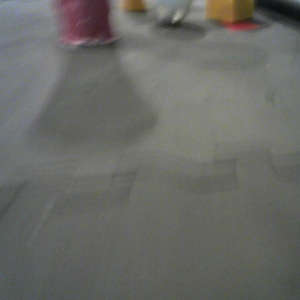middle: (58, 1, 120, 47)
